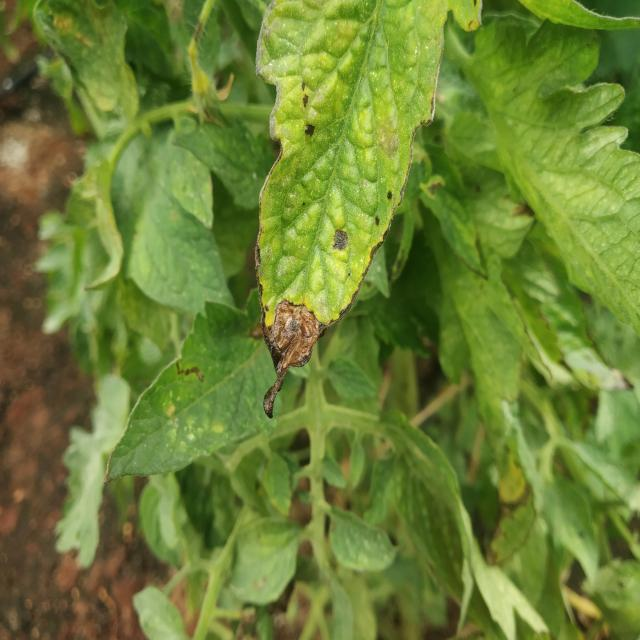Tomato mosaic virus leaf: (245, 74, 440, 426)
